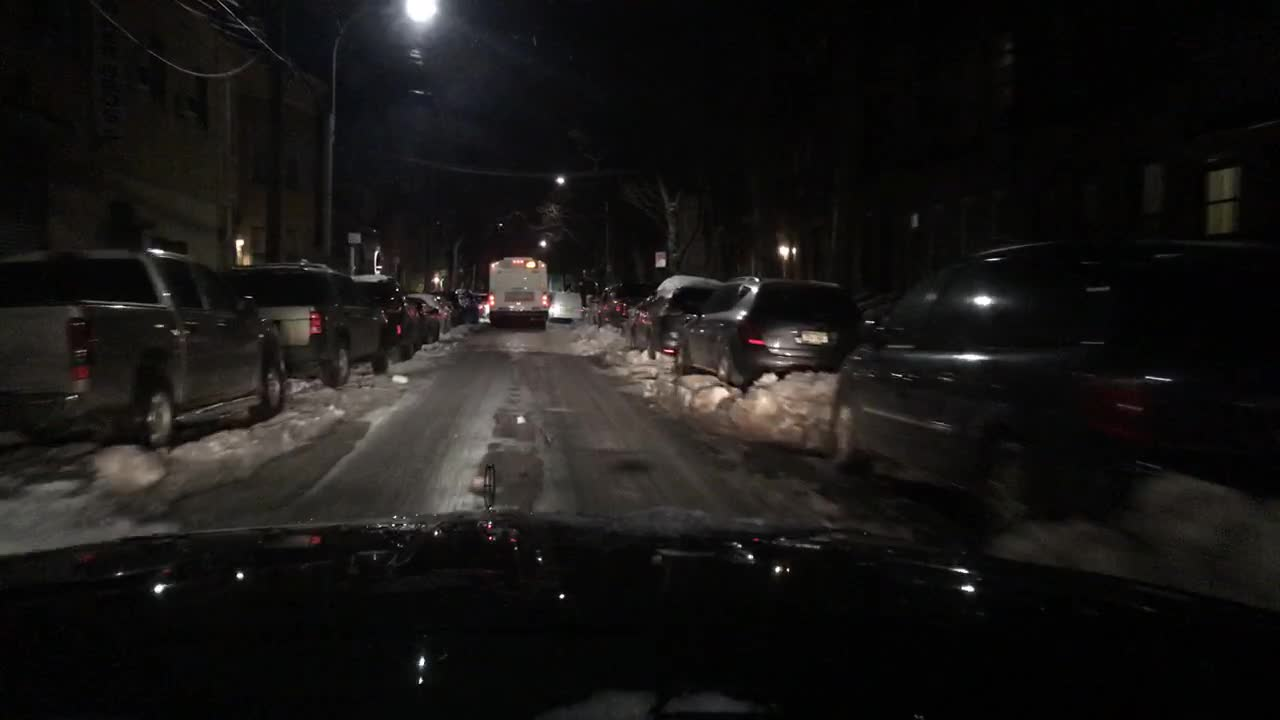car: (827, 236, 1279, 529), (670, 273, 864, 390), (228, 253, 395, 388), (621, 273, 722, 361), (347, 266, 418, 373), (592, 278, 658, 326), (408, 287, 452, 327), (413, 293, 442, 347), (433, 288, 469, 322), (454, 283, 476, 317), (584, 290, 604, 320), (472, 290, 492, 319)
traffic sign: (651, 248, 668, 266)
truck: (0, 245, 288, 449), (487, 253, 553, 332), (545, 285, 584, 324)
